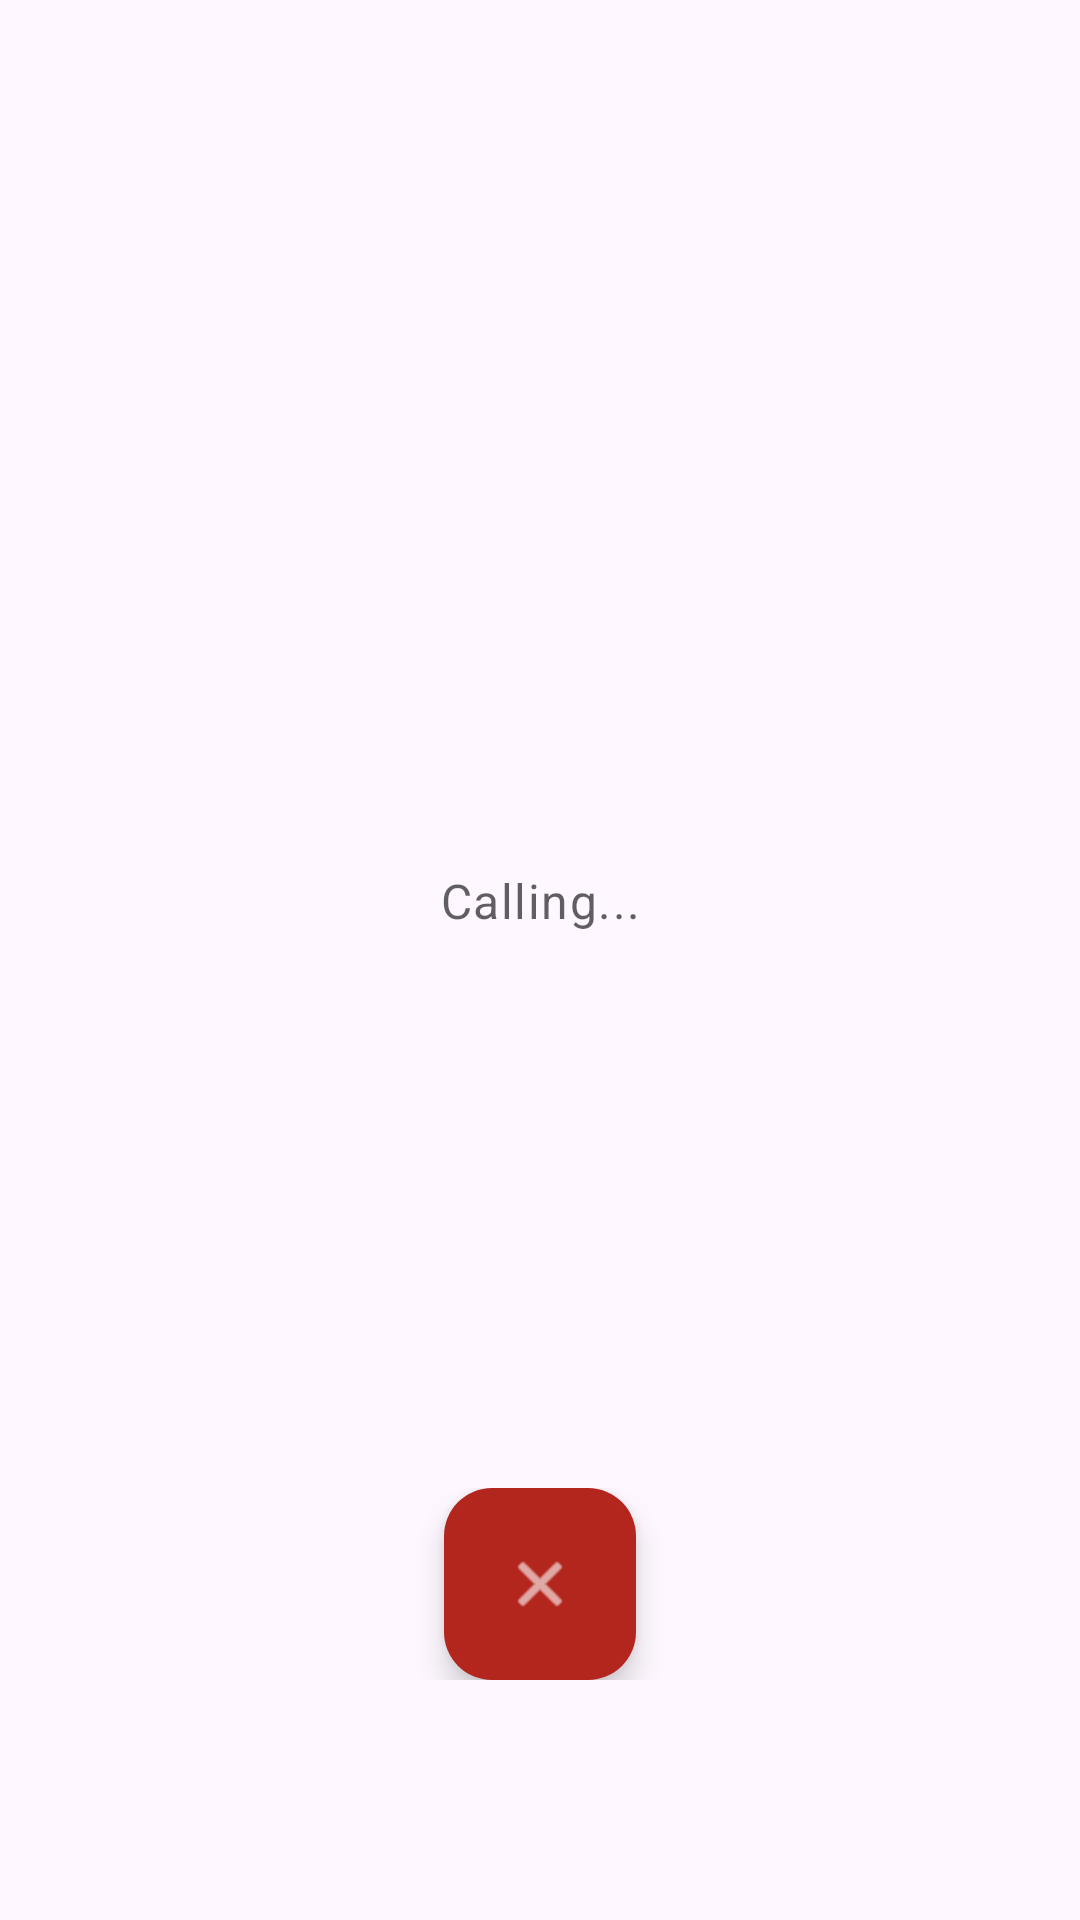

Icons on this 1080px x 1920px Android screen, each with its box as (x1=x1, y1=y1, x2=x2, y2=y2):
Decline: (x1=444, y1=1488, x2=636, y2=1680)
